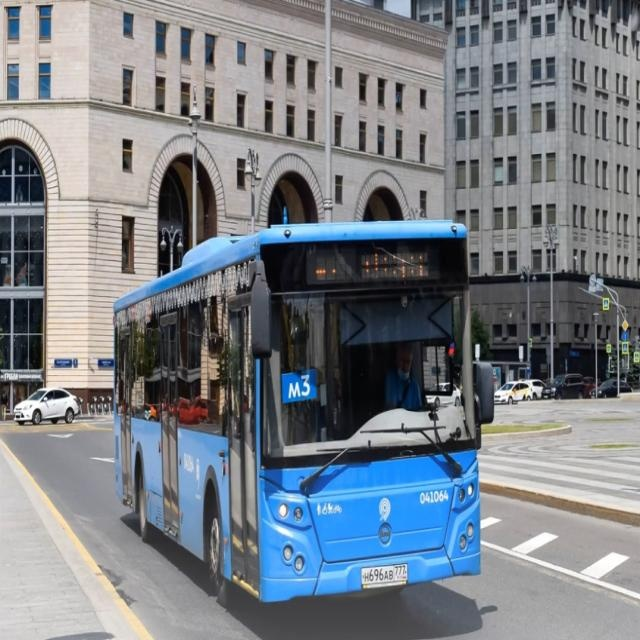Bus: (104, 210, 499, 619)
